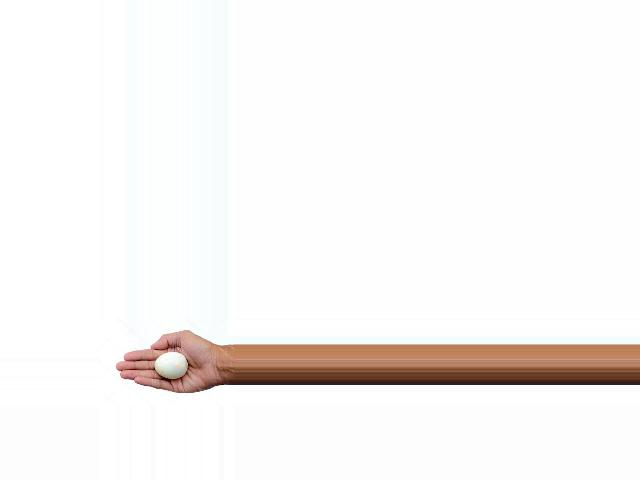egg: (153, 352, 187, 378)
